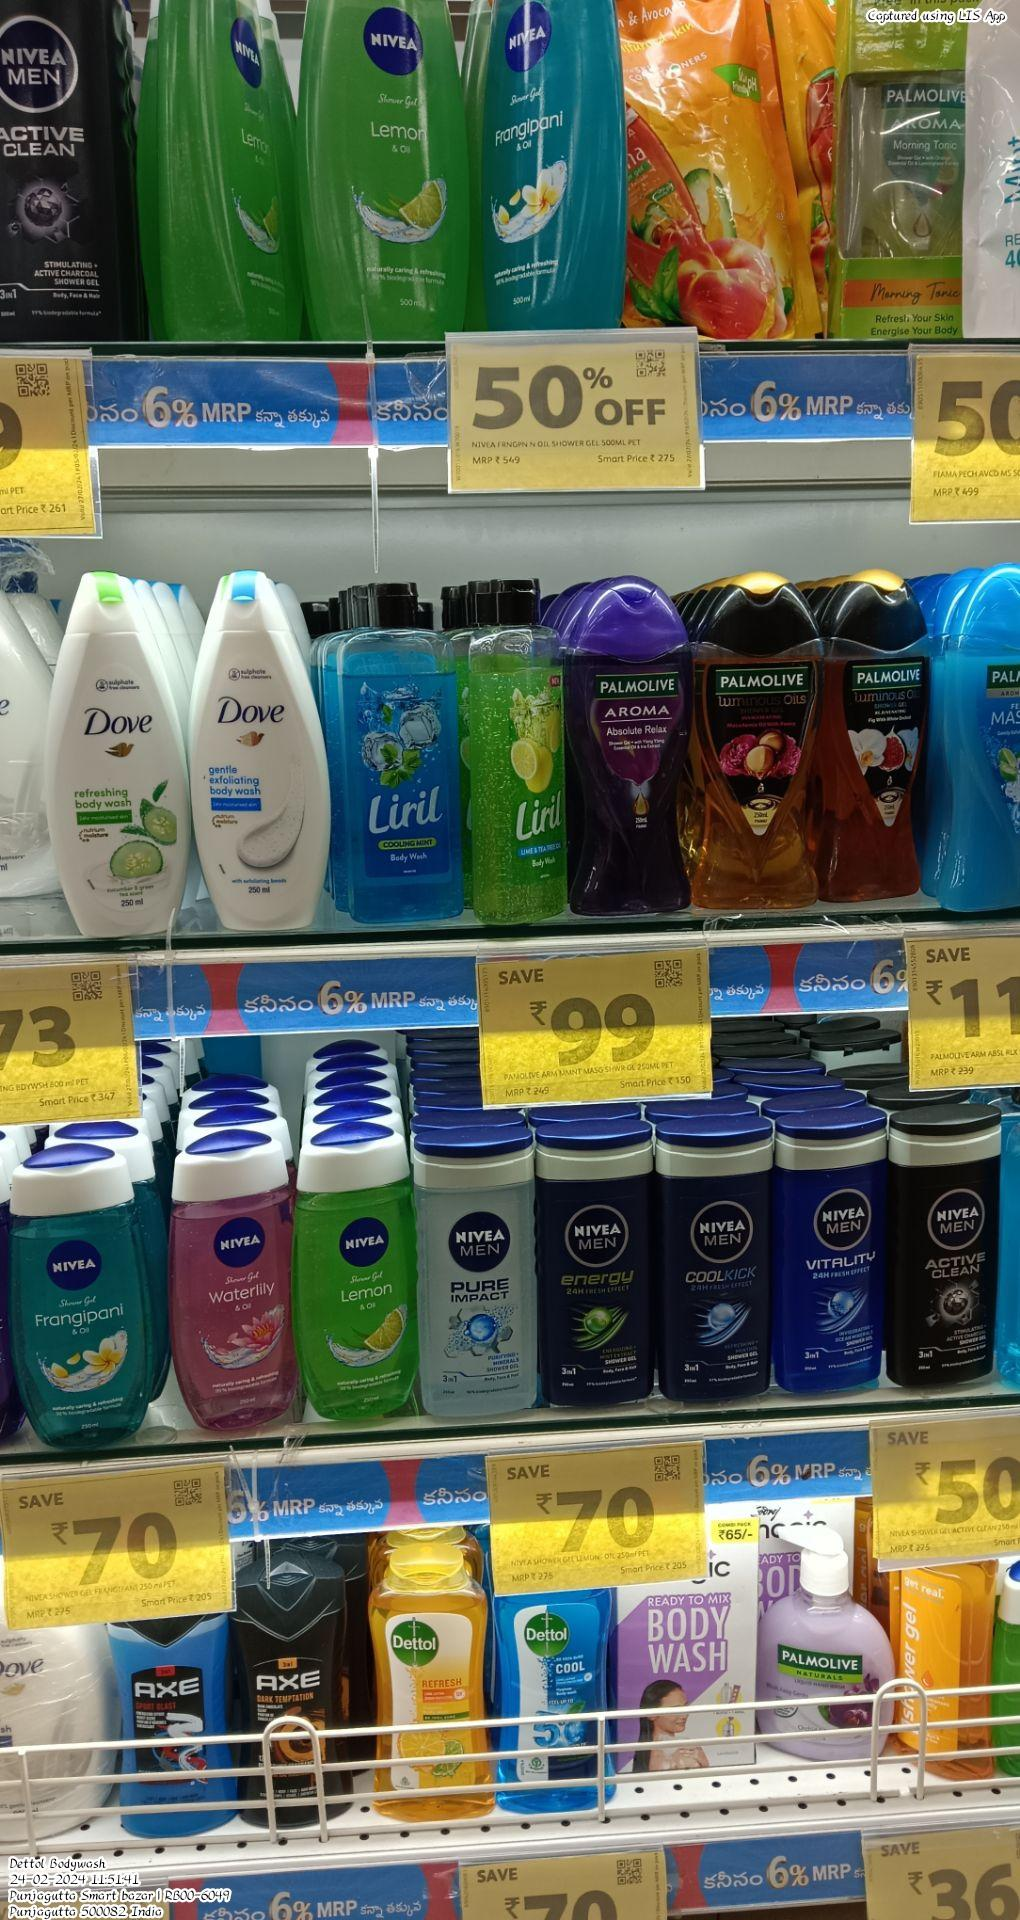Dettol_Bodywash_Cool: (493, 1583, 614, 1810)
Dettol_Bodywash_Refresh: (363, 1542, 497, 1821)
Dove_Gentle_Exfoliating_Body_Wash_250ML: (193, 570, 334, 927)
Dove_Refreshing_Body_Wash_250ML: (47, 569, 193, 935)
Nivea_Shower_Gel_Frangipani_and_Oil_250ML: (479, 0, 624, 333), (9, 1143, 151, 1450)
Nivea_Shower_Gel_Lemon_and_Oil_250ML: (301, 0, 464, 339), (159, 0, 302, 349), (296, 1123, 419, 1427)
Nivea_Shower_Gel_Waterlily_and_Oil_250ML: (165, 1126, 293, 1425)
Palmolive_Luminous_Oils_Invigorating_Macadamia_Oil_With_Peony_250ML: (695, 571, 823, 916)
Palmolive_Luminous_Oils_With_White_Orchid_Shower_Gel_250ML: (822, 561, 936, 900)
